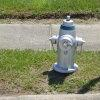a fire hydrant: (49, 16, 86, 74)
